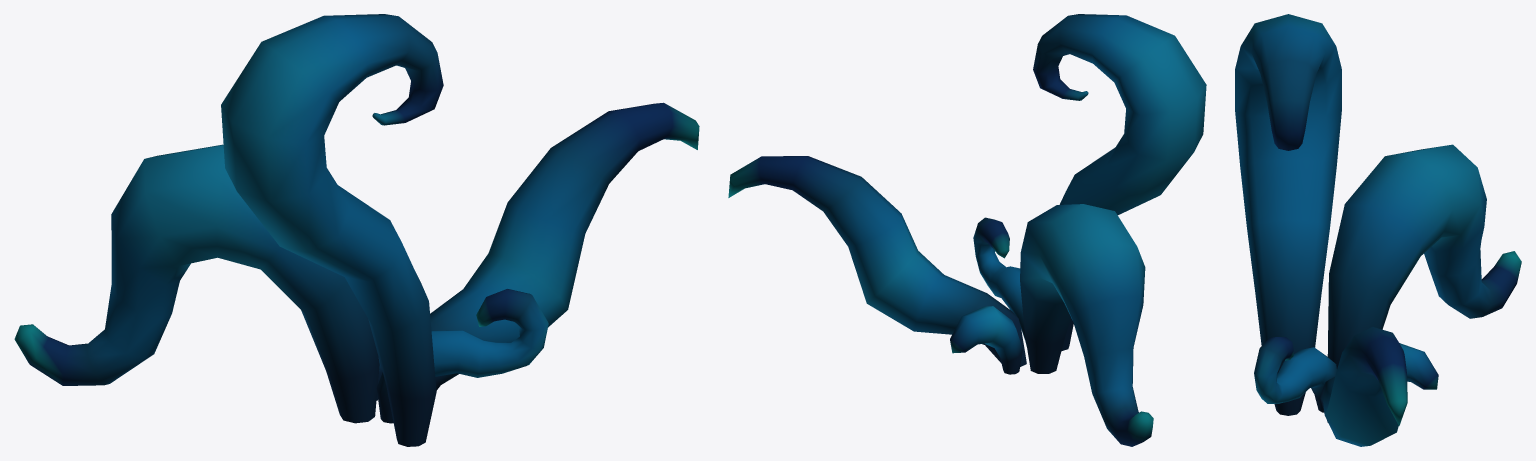
The model's file is Alien_Ivy02.fbx.
3 views of the same model, side by side, from view 1: azimuth 30°, elevation 25°; view 2: azimuth 150°, elevation 25°; view 3: azimuth 270°, elevation 25° (orthographic). The views are drawn at different scales.
Visible parts, largest first — view 1: Alien_Ivy02; view 2: Alien_Ivy02; view 3: Alien_Ivy02.
Part boxes in pixels (x1=…): Alien_Ivy02: x1=14, y1=14, x2=699, y2=446; Alien_Ivy02: x1=728, y1=14, x2=1206, y2=446; Alien_Ivy02: x1=1235, y1=14, x2=1521, y2=446.
Size of the model in its own units: 5264 by 3617 by 2631.
